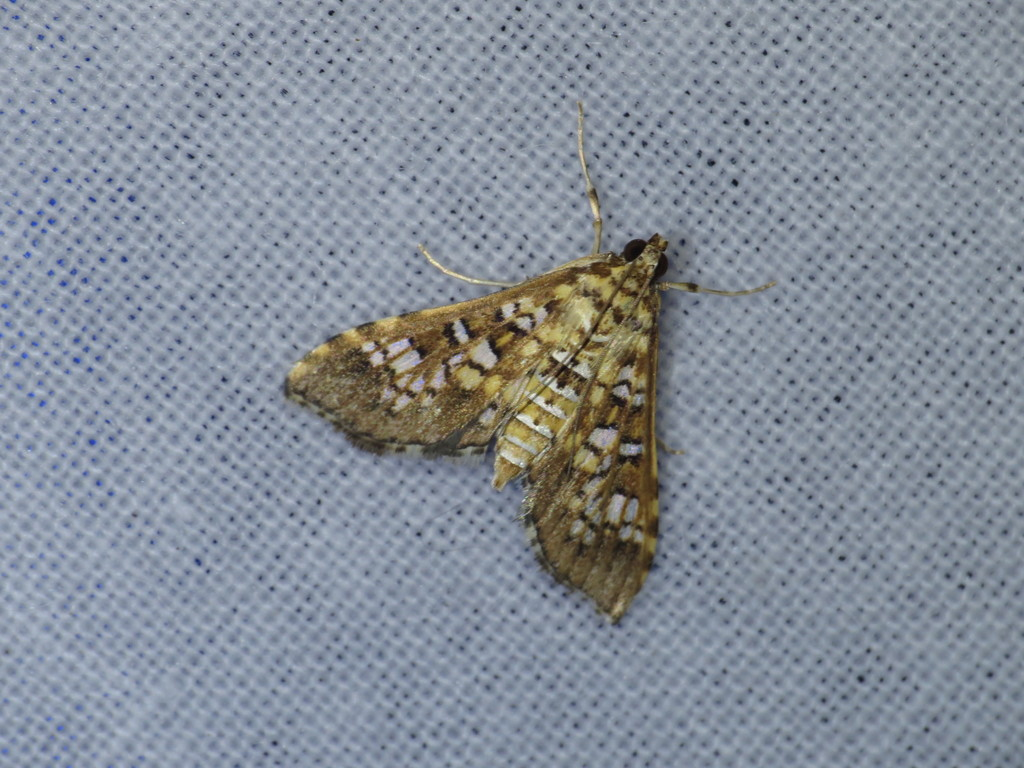Butterfly: (254, 185, 690, 624)
